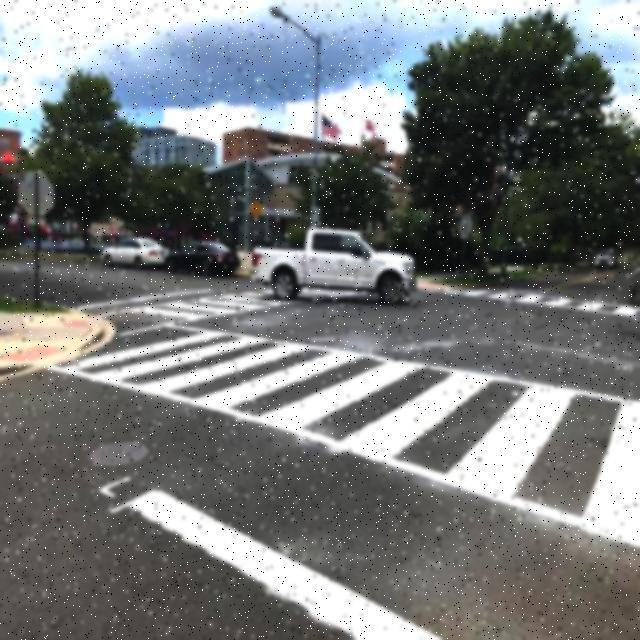crosswalk: (65, 325, 637, 565), (103, 285, 317, 334), (466, 274, 640, 332)
